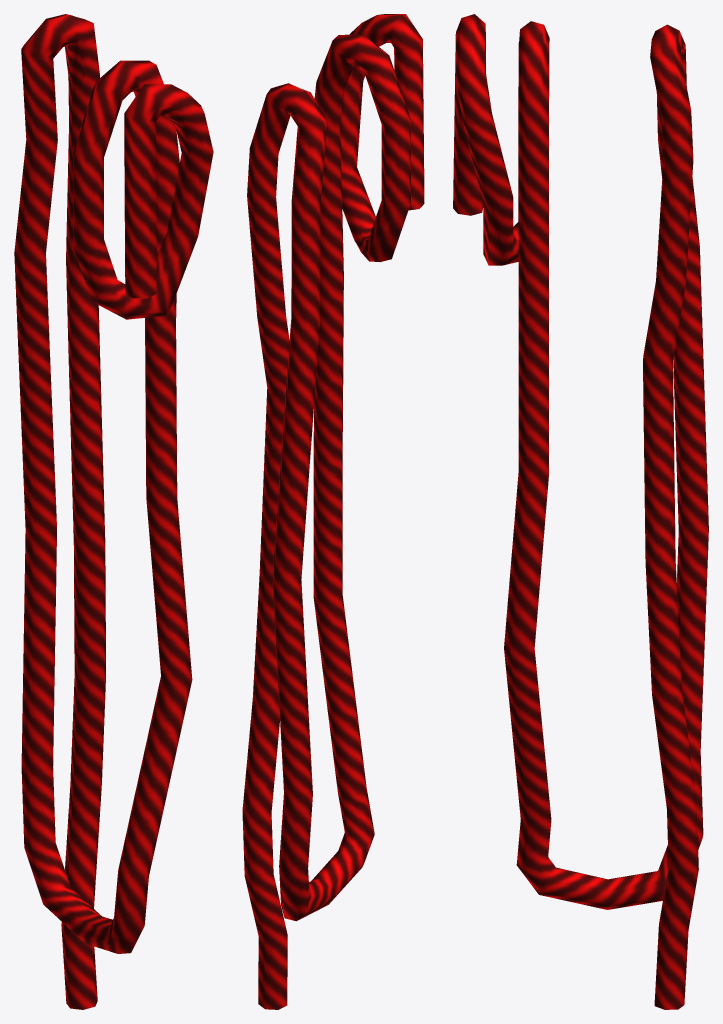
File: Rope05.fbx
3 views of the same model, side by side, from view 1: azimuth 30°, elevation 25°; view 2: azimuth 150°, elevation 25°; view 3: azimuth 270°, elevation 25° (orthographic). The views are drawn at different scales.
Parts seen in each view (by area): view 1: Rope05; view 2: Rope05; view 3: Rope05.
Boxes of the visible parts, left/top/right/bottom form: Rope05: left=14, top=14, right=213, bottom=1009; Rope05: left=242, top=14, right=424, bottom=1009; Rope05: left=453, top=14, right=708, bottom=1009.
Bounding box in the file's own units: 7.76 × 68.37 × 16.29.
Materials: 1 (1 with a texture image).
